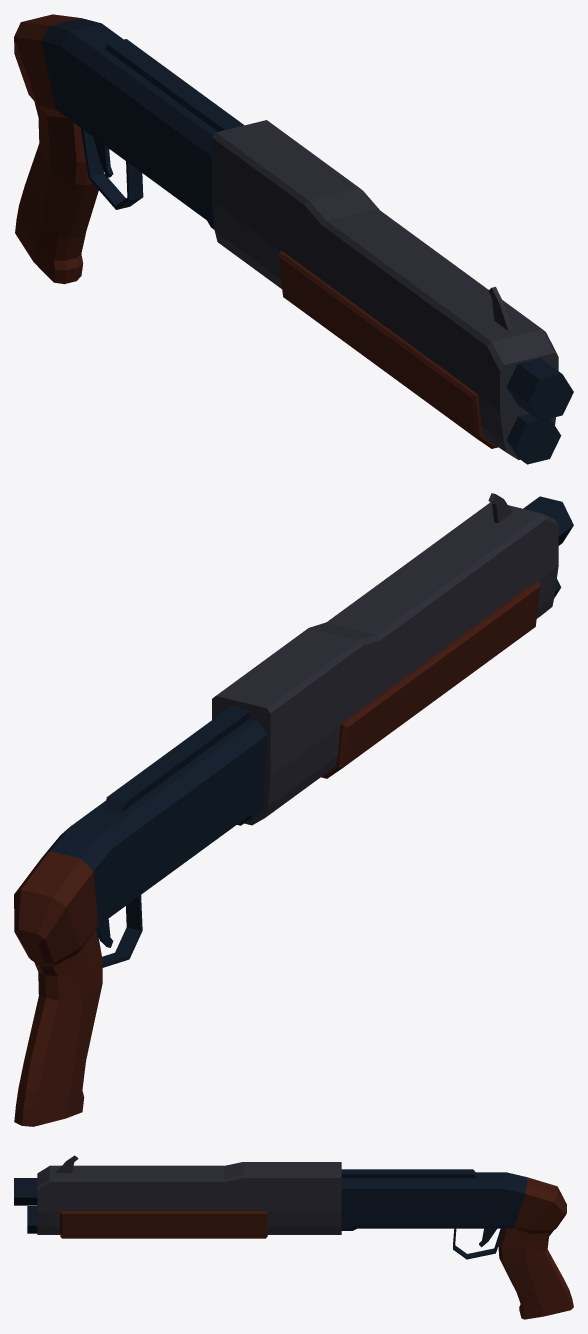
The model's file is SG_Barrel.fbx.
The picture shows the model from 3 angles, top to bottom: view 1: azimuth 30°, elevation 25°; view 2: azimuth 150°, elevation 25°; view 3: azimuth 270°, elevation 25°; orthographic projection. The views are drawn at different scales.
Parts seen in each view (by area): view 1: ShotGun; view 2: ShotGun; view 3: ShotGun.
Part boxes in pixels (x1=…): ShotGun: x1=14, y1=14, x2=573, y2=464; ShotGun: x1=14, y1=493, x2=573, y2=1126; ShotGun: x1=14, y1=1155, x2=573, y2=1319.
Bounding box in the file's own units: 0.0371 × 0.1564 × 0.4931.
